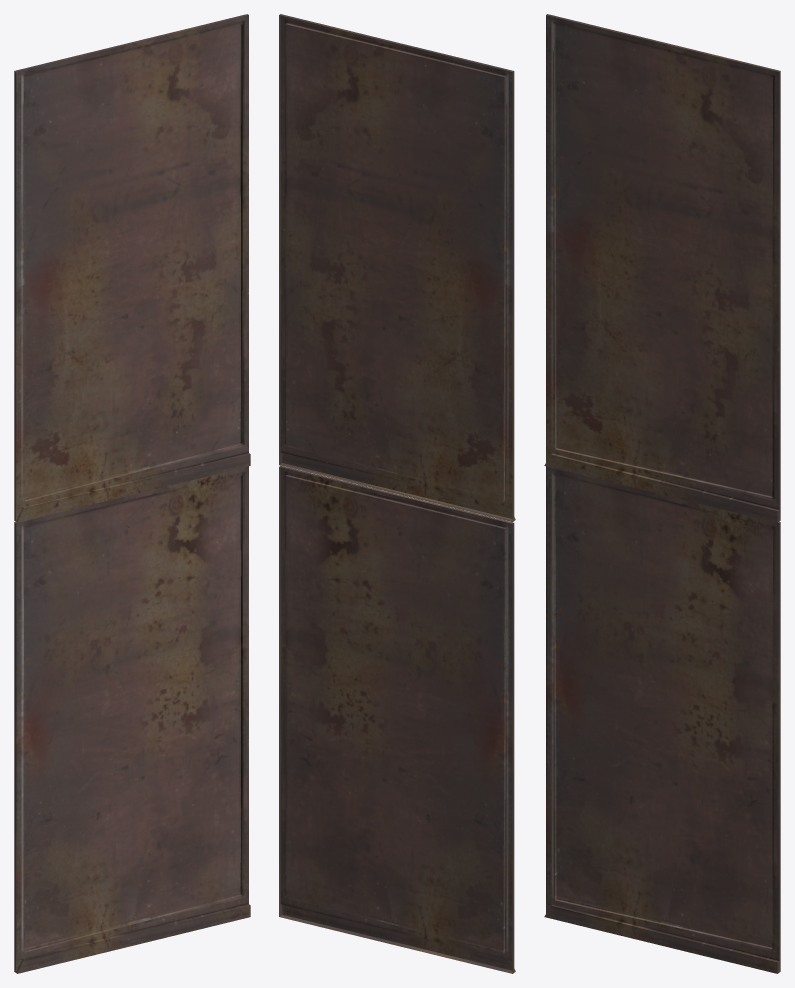
The model's file is staticB2_gate.fbx.
3 renders of one model, left to right at view 1: azimuth 30°, elevation 25°; view 2: azimuth 150°, elevation 25°; view 3: azimuth 330°, elevation 25°, orthographic.
Parts seen in each view (by area): view 1: P1.002; view 2: P1.002; view 3: P1.002.
Part boxes in pixels (<box>): P1.002: <box>14,14,250,973</box>; P1.002: <box>279,14,515,973</box>; P1.002: <box>544,14,780,973</box>.
Bounding box in the file's own units: 534 × 1968 × 12.76.
